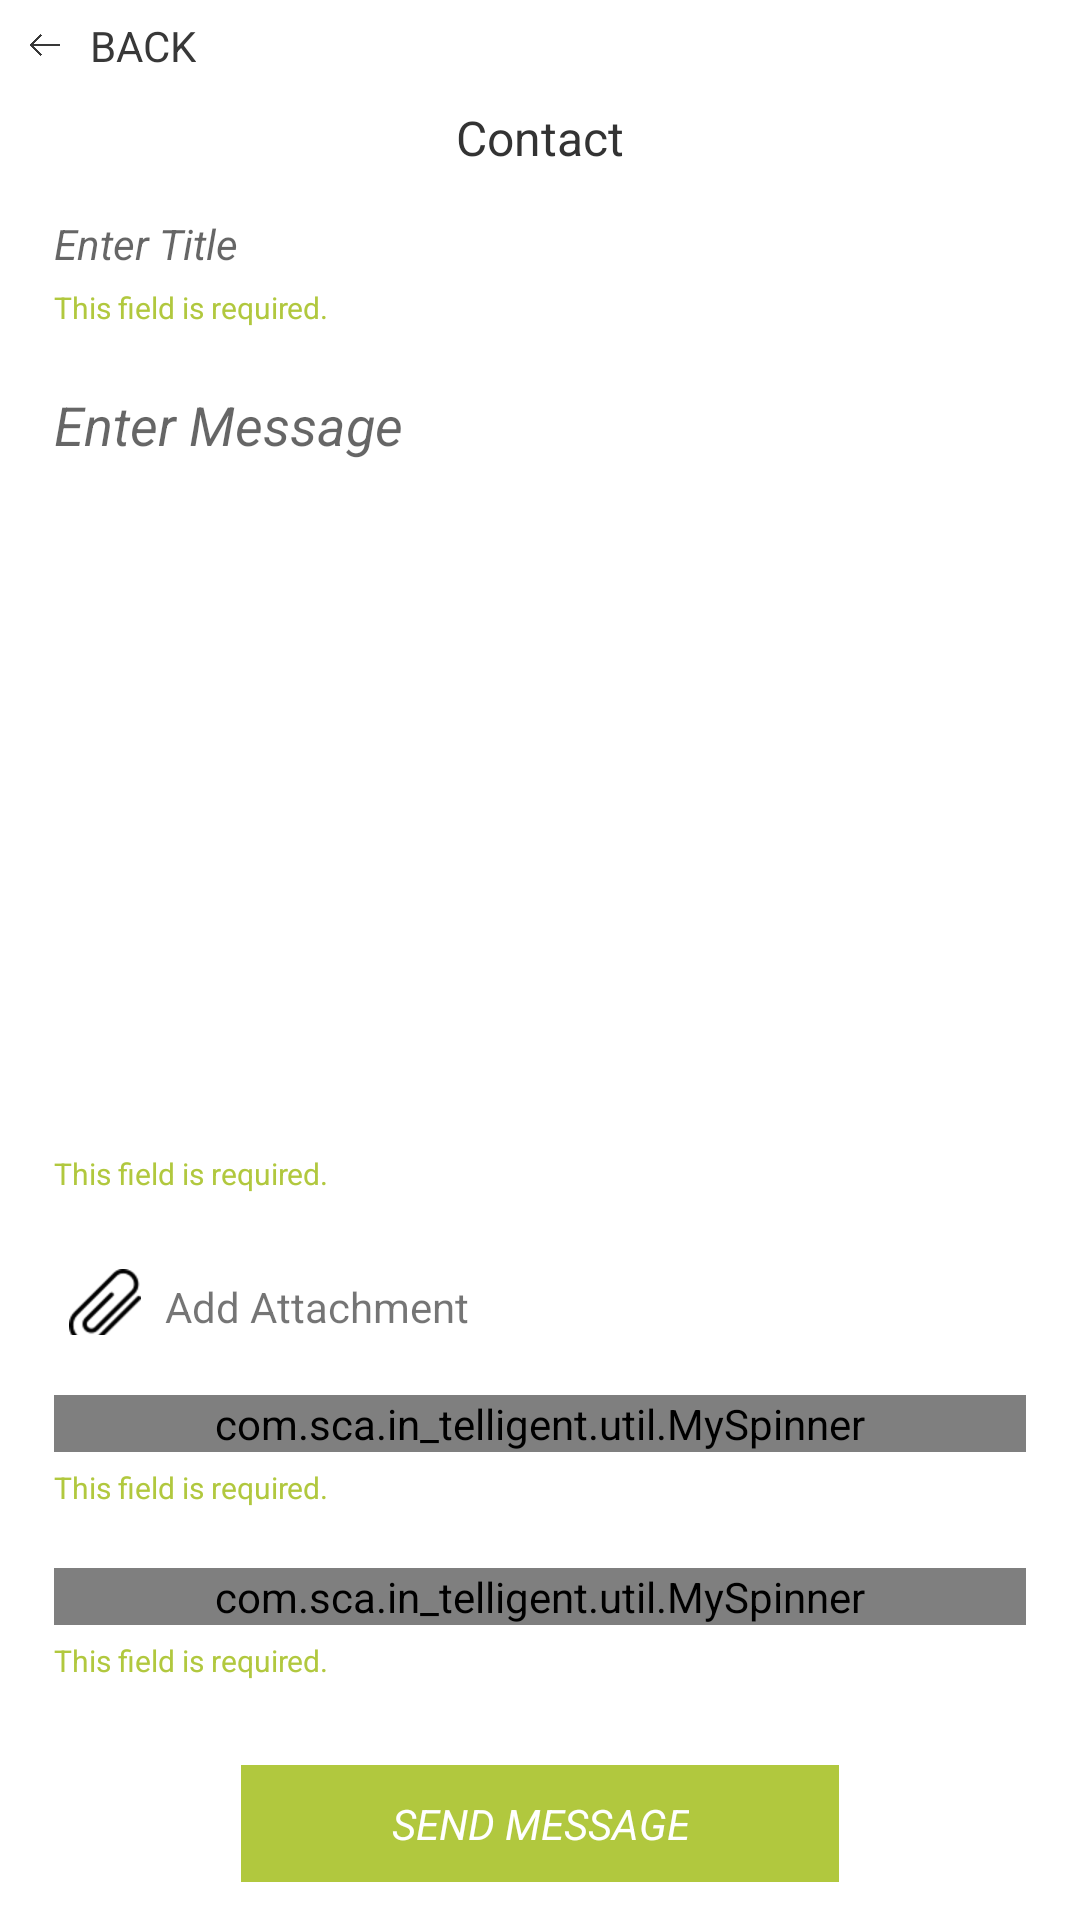

Locate icon controls on the screen. Image size 1080px×1920px, boxes as (x1, y1, x2, y2).
left arrow: (30, 34, 60, 56)
